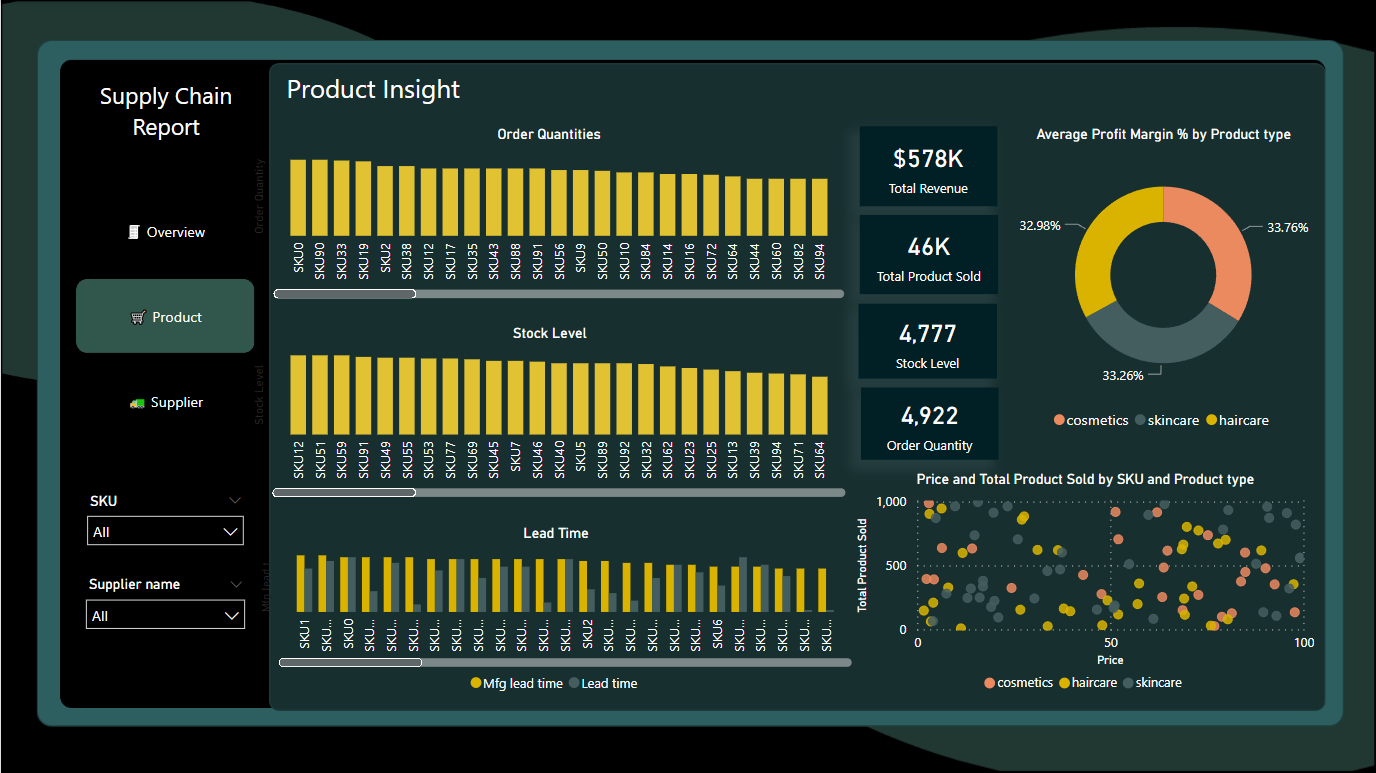

Layout of this report page (visuals, bound fields, positions):
{"tool":"powerbi","page":{"name":"🛒  Product","canvas":[1280,720],"ordinal":1},"visuals":[{"type":"columnChart","title":"Order Quantities","fields":{"Y":["_Measures.Order Quantity"],"Category":["supply_chain_data.SKU"]},"box":[230.2,117.4,559.2,165.1],"z":0},{"type":"columnChart","title":"Stock Level","fields":{"Y":["_Measures.Stock Level"],"Category":["supply_chain_data.SKU"]},"box":[230.2,302.3,560.4,165.1],"z":1000},{"type":"clusteredColumnChart","title":"Lead Time","fields":{"Category":["supply_chain_data.SKU"],"Y":["Sum(supply_chain_data.Mfg lead time)","Sum(supply_chain_data.Lead time)"]},"box":[236,488.3,560.4,165.1],"z":2000},{"type":"card","fields":{"Values":["_Measures.Total Revenue"]},"box":[798.7,117.4,127.9,74.4],"z":3000},{"type":"card","fields":{"Values":["_Measures.Total Product Sold"]},"box":[798.7,200,129,73.2],"z":4000},{"type":"card","fields":{"Values":["_Measures.Stock Level"]},"box":[797.5,282.5,129,69.8],"z":5000},{"type":"card","fields":{"Values":["_Measures.Order Quantity"]},"box":[799.9,360.4,127.9,67.4],"z":6000},{"type":"donutChart","fields":{"Y":["_Measures.Average Profit Margin %"],"Category":["supply_chain_data.Product type"]},"box":[935.9,117.4,290.6,291.8],"z":7000},{"type":"scatterChart","fields":{"Category":["supply_chain_data.SKU"],"X":["Sum(supply_chain_data.Price)"],"Y":["_Measures.Total Product Sold"],"Series":["supply_chain_data.Product type"]},"box":[790.6,438.3,436,215.1],"z":8000},{"type":"textbox","box":[260.4,60.5,206.9,57],"z":9000},{"type":"group","id":"g1","title":"Group 1","box":[69.1,68.6,168.6,536.4],"z":10000},{"type":"pageNavigator","box":[69.7,179.9,166.2,229],"z":12000,"group":"g1"},{"type":"slicer","fields":{"Values":["supply_chain_data.SKU"]},"box":[70.5,453.1,166.2,70.9],"z":13000,"group":"g1"},{"type":"slicer","fields":{"Values":["supply_chain_data.Supplier name"]},"box":[69.1,531.8,168.6,73.2],"z":14000,"group":"g1"},{"type":"textbox","box":[71,68.6,165.1,90.7],"z":15000,"group":"g1"}]}

Visuals, with their boxes on the page's 1280x720 design canvas (x1, y1, x2, y2). These are canvas units, not pixel positions in the 1376x773 screenshot, which may show the page scaled, cropped or inside an application window:
"Order Quantities" columnChart: {"left": 230, "top": 117, "right": 789, "bottom": 282}
"Stock Level" columnChart: {"left": 230, "top": 302, "right": 791, "bottom": 467}
"Lead Time" clusteredColumnChart: {"left": 236, "top": 488, "right": 796, "bottom": 653}
card - _Measures.Total Revenue: {"left": 799, "top": 117, "right": 927, "bottom": 192}
card - _Measures.Total Product Sold: {"left": 799, "top": 200, "right": 928, "bottom": 273}
card - _Measures.Stock Level: {"left": 798, "top": 282, "right": 926, "bottom": 352}
card - _Measures.Order Quantity: {"left": 800, "top": 360, "right": 928, "bottom": 428}
donutChart - _Measures.Average Profit Margin % x supply_chain_data.Product type: {"left": 936, "top": 117, "right": 1226, "bottom": 409}
scatterChart - supply_chain_data.SKU x Sum(supply_chain_data.Price): {"left": 791, "top": 438, "right": 1227, "bottom": 653}
textbox: {"left": 260, "top": 60, "right": 467, "bottom": 118}
"Group 1" group: {"left": 69, "top": 69, "right": 238, "bottom": 605}
pageNavigator: {"left": 70, "top": 180, "right": 236, "bottom": 409}
slicer - supply_chain_data.SKU: {"left": 70, "top": 453, "right": 237, "bottom": 524}
slicer - supply_chain_data.Supplier name: {"left": 69, "top": 532, "right": 238, "bottom": 605}
textbox: {"left": 71, "top": 69, "right": 236, "bottom": 159}
